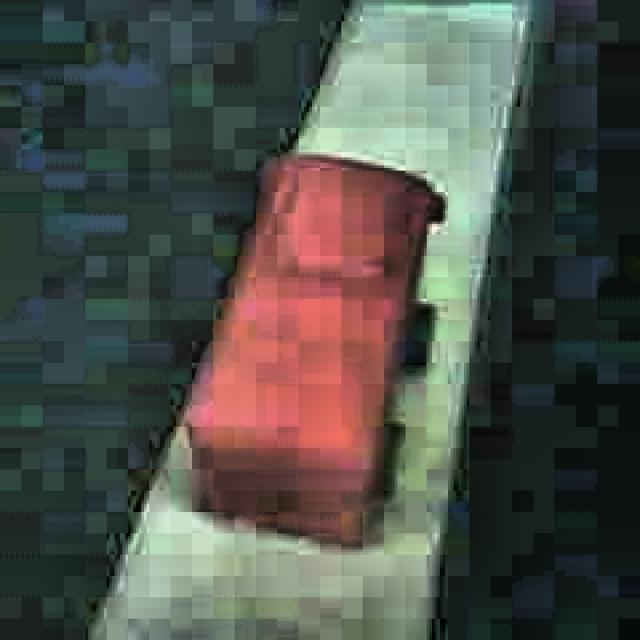bus: (180, 152, 447, 555)
